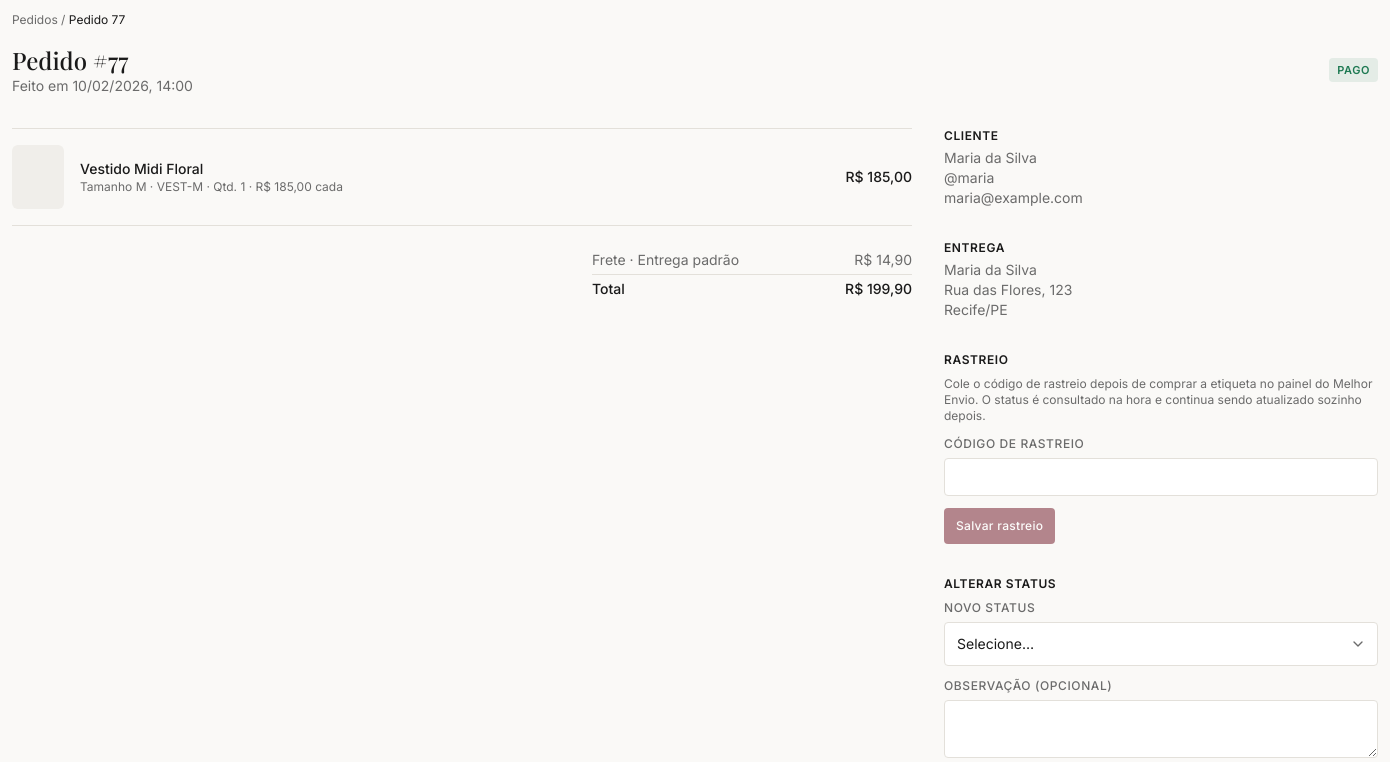
Scenario: AdminPedidoDetalhe › pedido pago sem codigo de rastreio mostra o formulario pra cadastrar
Expected: the heading "Pedido #77" is shown, [12, 44, 128, 76]
Type "BR123456789BR" into the field labelled "Código de rastreio" at x=1161, y=477, box [944, 458, 1378, 496]
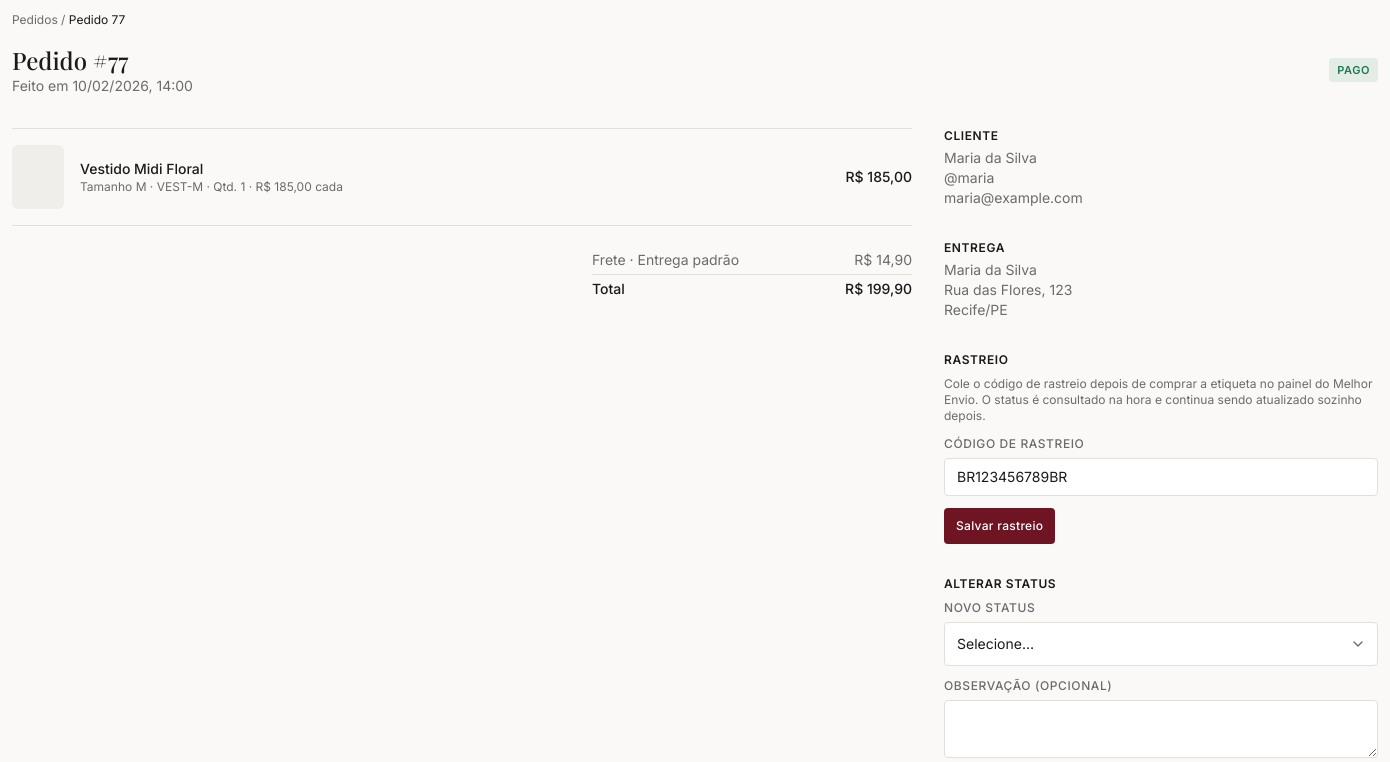
Click the button "Salvar rastreio" at x=1000, y=526, box [944, 508, 1055, 544]
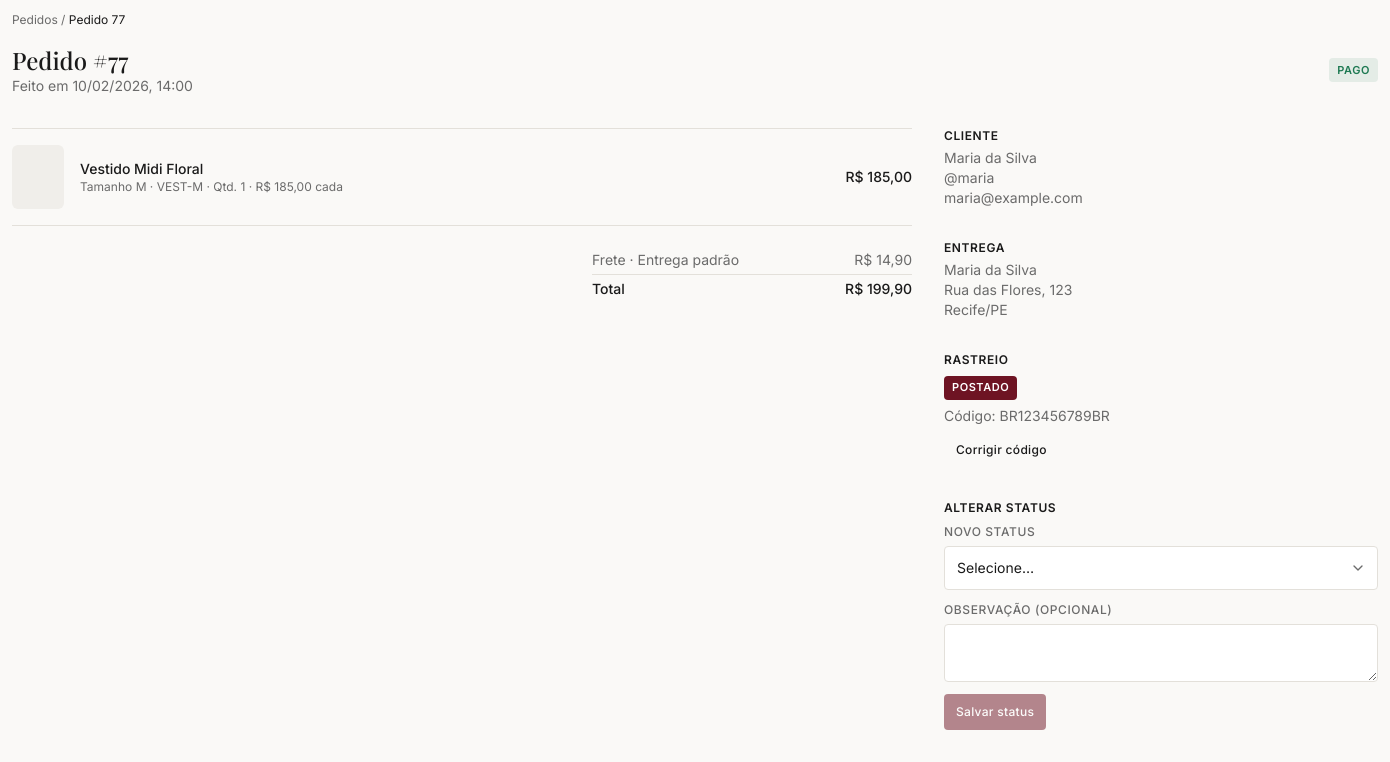
Now the text "Postado" is shown, box [944, 376, 1017, 400]
Now the text "Código: BR123456789BR" is shown, box [944, 407, 1110, 424]
